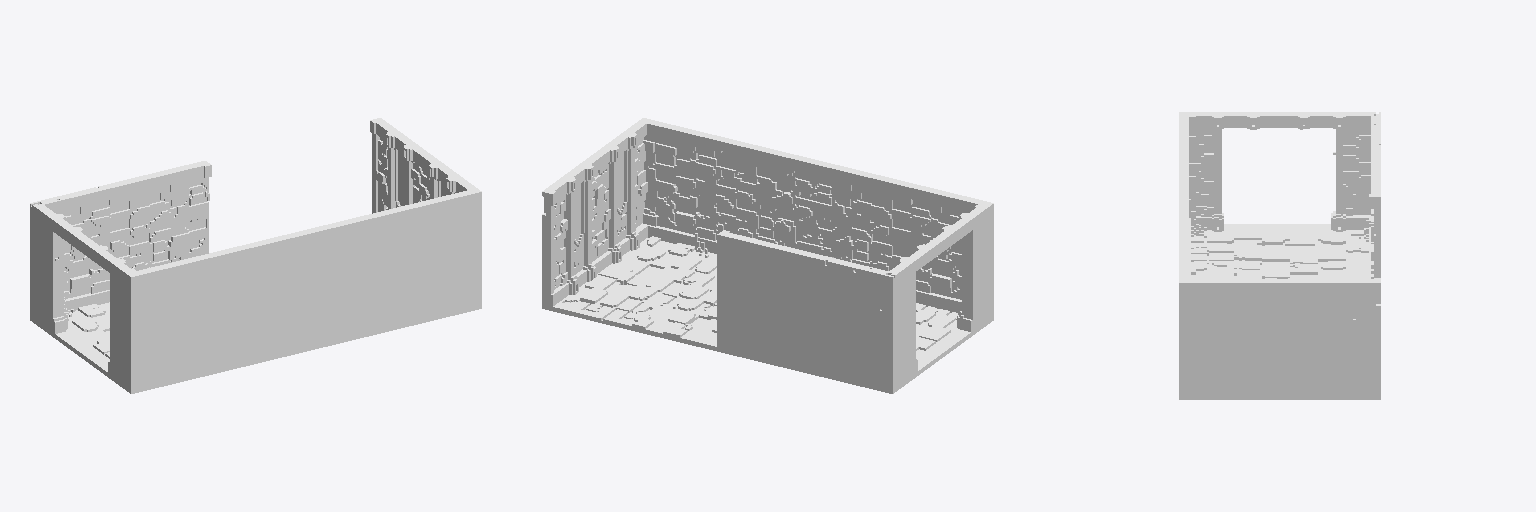
File: Hallway.obj
3 renders of one model, left to right at view 1: azimuth 30°, elevation 25°; view 2: azimuth 150°, elevation 25°; view 3: azimuth 270°, elevation 25°, orthographic.
Visible parts, largest first — view 1: HallWay; view 2: HallWay; view 3: HallWay.
Boxes of the visible parts, <box> form: HallWay: <box>30,118,481,393</box>; HallWay: <box>542,118,993,393</box>; HallWay: <box>1179,112,1380,399</box>.
Bounding box in the file's own units: 16 × 5.1 × 8.